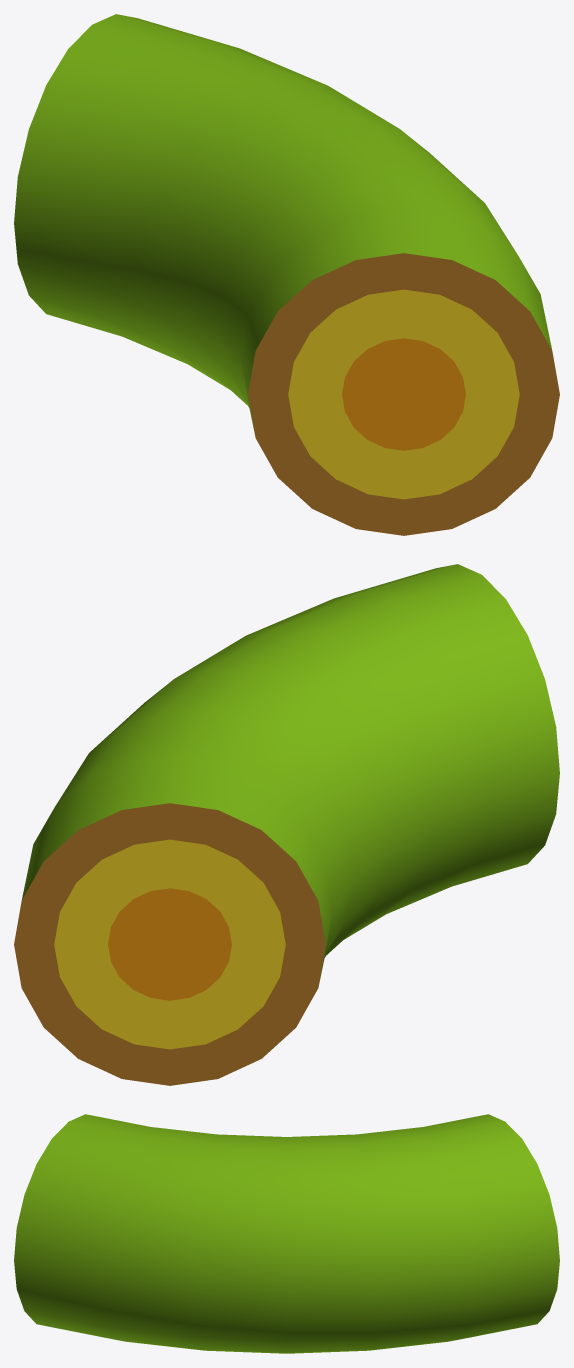
The model's file is Station_Segment_Col.fbx.
3 views of the same model, one above another, from view 1: azimuth 30°, elevation 25°; view 2: azimuth 150°, elevation 25°; view 3: azimuth 270°, elevation 25° (orthographic). The views are drawn at different scales.
Visible parts, largest first — view 1: Station_Segment_Col; view 2: Station_Segment_Col; view 3: Station_Segment_Col.
Part boxes in pixels (x1,y1,x2,y2): Station_Segment_Col: (14, 14, 559, 535); Station_Segment_Col: (14, 564, 559, 1085); Station_Segment_Col: (14, 1114, 559, 1353).
Bounding box in the file's own units: 480 × 400 × 1000.
1 material, 1 textured.
